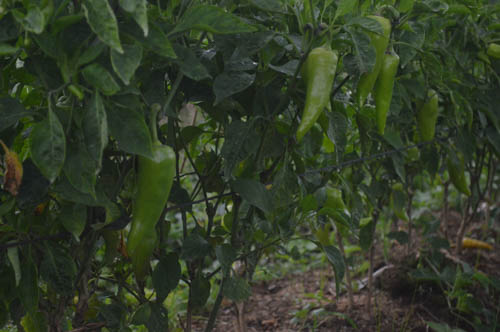ChiliPepper: (132, 147, 174, 251), (297, 50, 340, 144), (362, 16, 387, 111), (376, 56, 391, 133), (421, 88, 438, 146)
